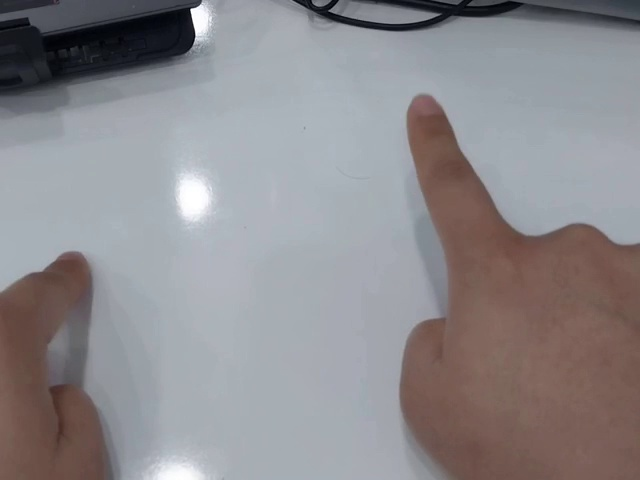fingers: (42, 250, 91, 304), (405, 93, 455, 141)
